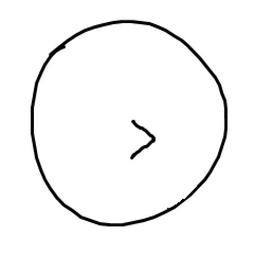pointy_nose: (108, 111, 162, 168)
